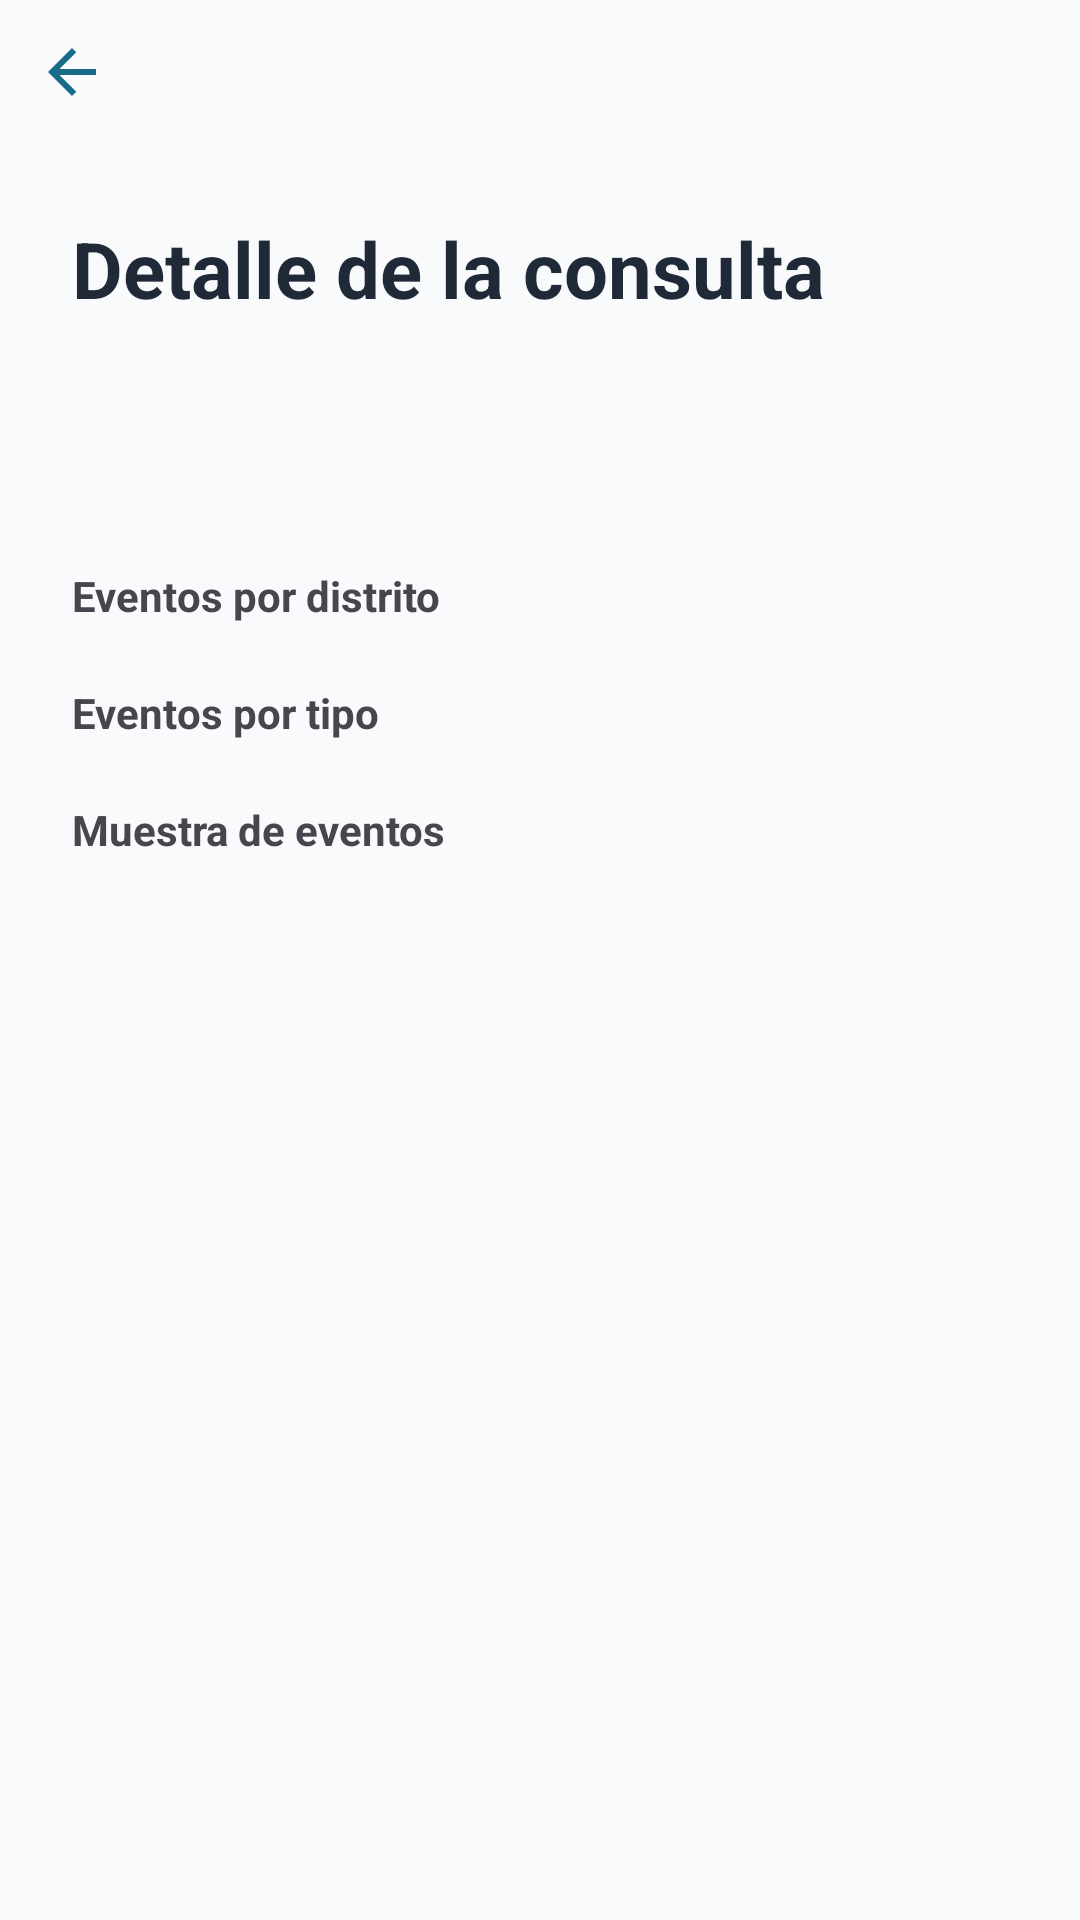

Locate icon controls on the screen. Image size 1080w x 1920h, boxes as (x1, y1, x2, y2).
Volver: (48, 48, 96, 96)
